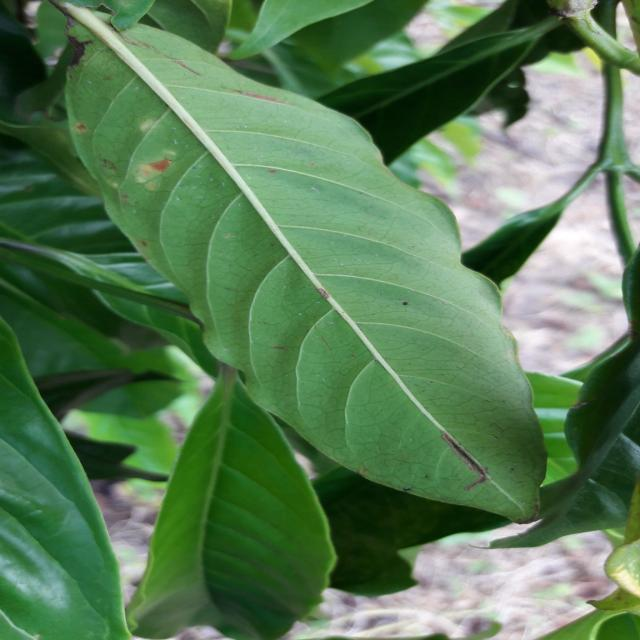Enfermedad-Roya: (0, 0, 549, 535)
